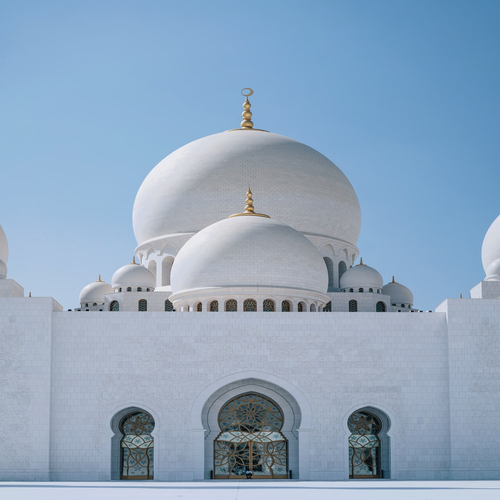Mosque: (50, 80, 453, 483)
